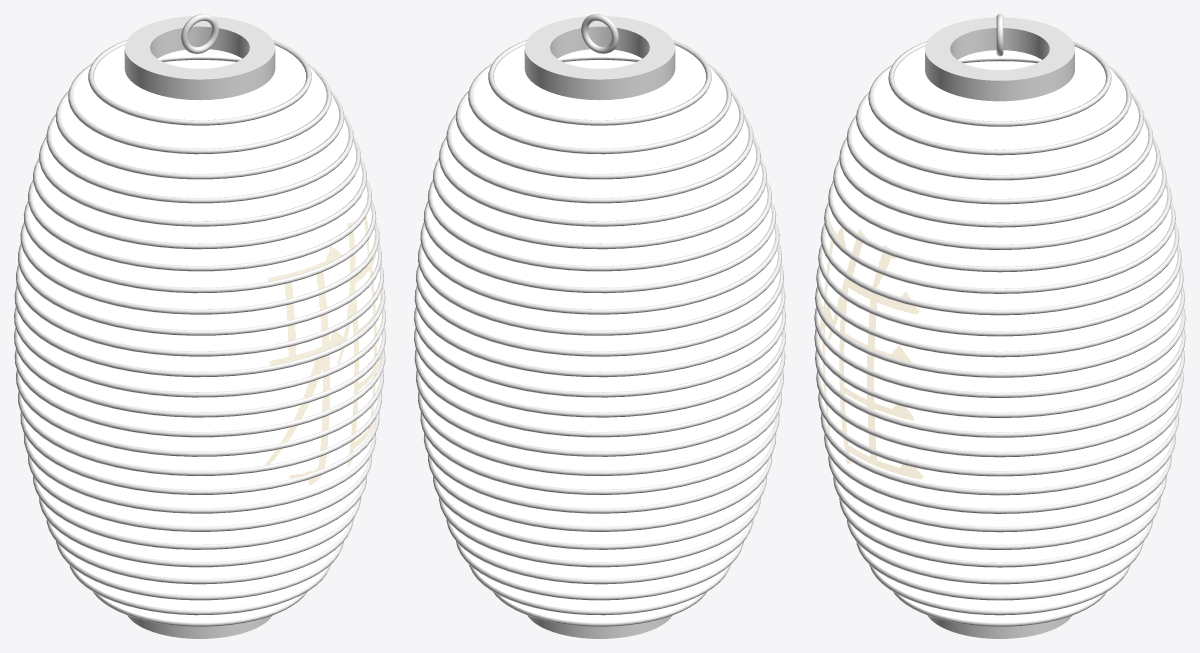
File: chochin.glb
The picture shows the model from 3 angles, left to right: view 1: azimuth 30°, elevation 25°; view 2: azimuth 150°, elevation 25°; view 3: azimuth 270°, elevation 25°; orthographic projection.
Visible parts, largest first — view 1: 火袋, 輪, 骨15, 骨14, 骨13, 骨16, 骨17, 骨12, 骨11, 骨18, 骨19, 骨10 (+18 smaller); view 2: 火袋, 輪, 骨15, 骨14, 骨16, 骨13, 骨17, 骨12, 骨11, 骨18, 骨19, 骨23 (+18 smaller); view 3: 火袋, 輪, 骨14, 骨15, 骨16, 骨13, 骨17, 骨12, 骨18, 骨11, 骨23, 骨10 (+17 smaller).
Part boxes in pixels (x1,y1,x2,y2): 火袋: (18, 45, 381, 622); 輪: (124, 16, 275, 100); 骨15: (16, 264, 383, 356); 骨14: (14, 285, 385, 377); 骨13: (14, 306, 385, 397); 骨16: (18, 243, 381, 335); 骨17: (20, 222, 379, 314); 骨12: (14, 328, 385, 417); 骨11: (14, 349, 385, 437); 骨18: (23, 201, 376, 293); 骨19: (28, 180, 371, 271); 骨10: (16, 370, 383, 456); 火袋: (418, 45, 781, 622); 輪: (524, 16, 675, 100); 骨15: (416, 264, 783, 356); 骨14: (414, 285, 785, 377); 骨16: (418, 243, 781, 335); 骨13: (414, 306, 785, 397); 骨17: (420, 222, 779, 314); 骨12: (414, 328, 785, 417); 骨11: (414, 349, 785, 437); 骨18: (423, 201, 776, 293); 骨19: (428, 180, 771, 271); 骨23: (455, 57, 744, 179); 火袋: (818, 46, 1181, 622); 輪: (925, 17, 1074, 101); 骨14: (815, 287, 1184, 377); 骨15: (816, 266, 1183, 357); 骨16: (818, 244, 1181, 336); 骨13: (814, 308, 1185, 397); 骨17: (820, 223, 1179, 315); 骨12: (814, 328, 1185, 417); 骨18: (824, 201, 1175, 293); 骨11: (815, 349, 1184, 437); 骨23: (856, 58, 1143, 180); 骨10: (816, 370, 1183, 457).
Size of the model in its own units: 0.2201 by 0.3866 by 0.2201.
Materials: 2 (1 with a texture image).
